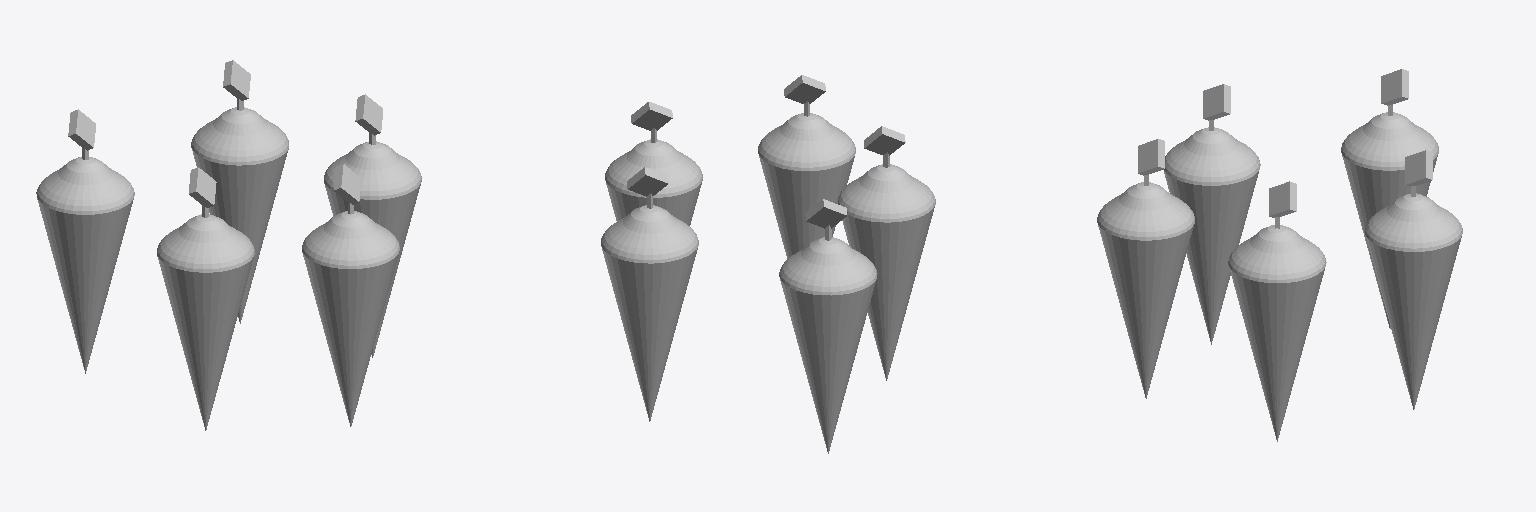
Rendered from carrotstage1.obj.
3 renders of one model, left to right at view 1: azimuth 30°, elevation 25°; view 2: azimuth 150°, elevation 25°; view 3: azimuth 270°, elevation 25°, orthographic.
Parts seen in each view (by area): view 1: Cone.002, Cone, Cone.001, Cone.004, Cone.003; view 2: Cone, Cone.004, Cone.002, Cone.001, Cone.003; view 3: Cone.003, Cone.004, Cone.001, Cone.002, Cone.
Boxes of the visible parts, x1=… form: Cone.002: x1=157, y1=167, x2=254, y2=430; Cone: x1=36, y1=109, x2=134, y2=373; Cone.001: x1=302, y1=164, x2=399, y2=426; Cone.004: x1=191, y1=60, x2=288, y2=323; Cone.003: x1=324, y1=94, x2=421, y2=357; Cone: x1=779, y1=199, x2=877, y2=453; Cone.004: x1=601, y1=167, x2=698, y2=421; Cone.002: x1=838, y1=126, x2=935, y2=380; Cone.001: x1=758, y1=75, x2=855, y2=258; Cone.003: x1=605, y1=102, x2=702, y2=225; Cone.003: x1=1228, y1=181, x2=1326, y2=441; Cone.004: x1=1365, y1=150, x2=1462, y2=409; Cone.001: x1=1097, y1=139, x2=1194, y2=398; Cone.002: x1=1164, y1=84, x2=1260, y2=344; Cone: x1=1341, y1=69, x2=1438, y2=328.
Bounding box in the file's own units: 0.7407 × 0.5836 × 0.7433.